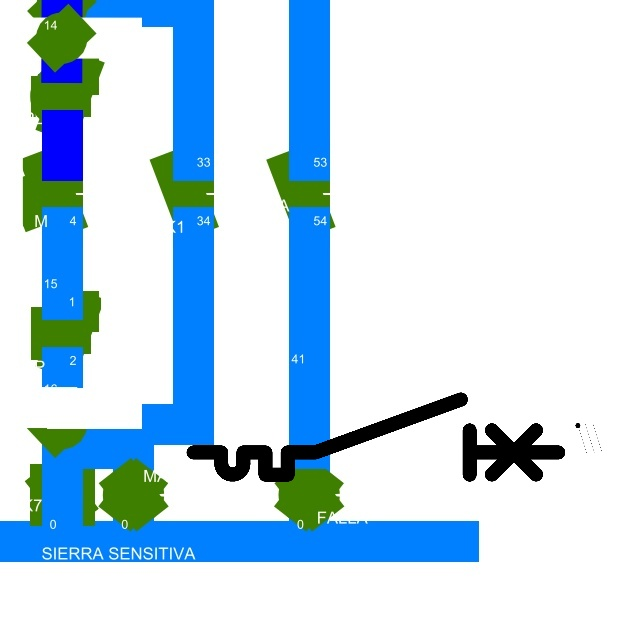interruptor_termomagnetico: (184, 390, 567, 484)
